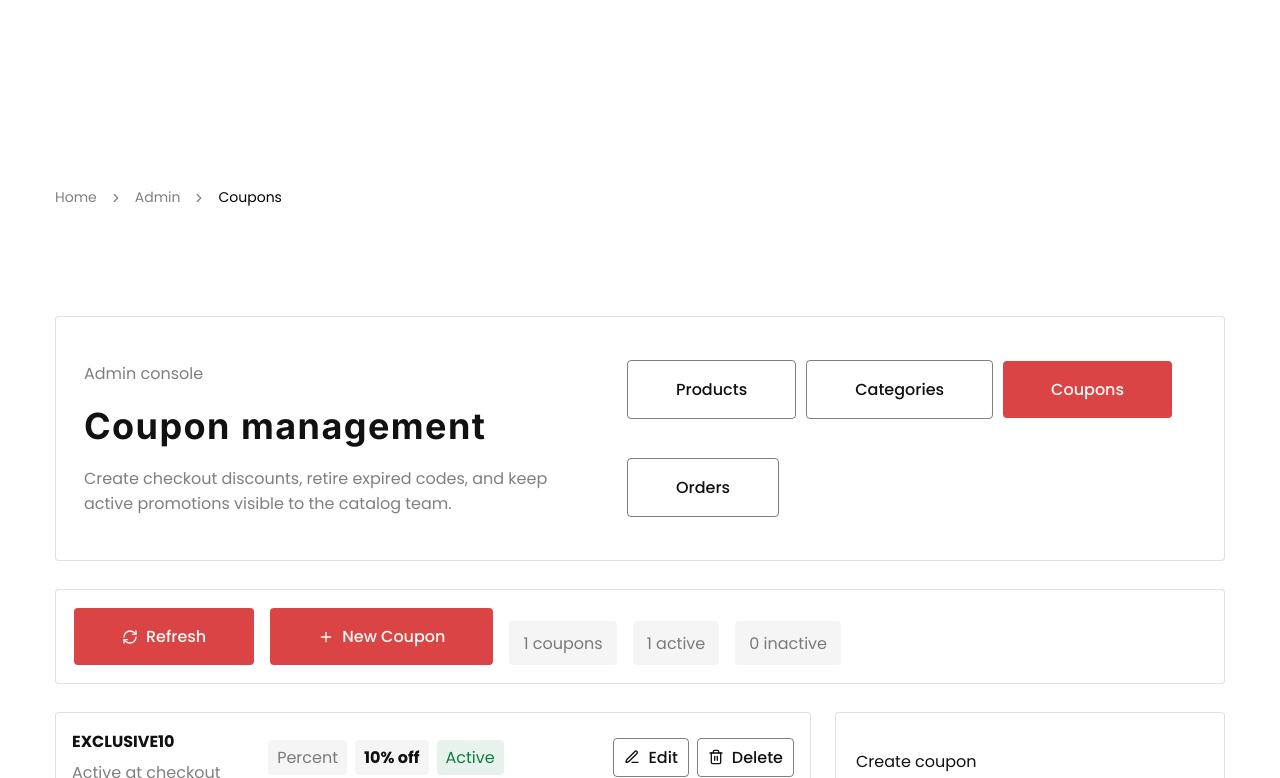
Test: AdminCouponsPage › keeps a coupon visible when delete fails
Expected: the text "EXCLUSIVE10" is shown, [72,730,174,753]
Click the button "Delete": (745, 757) [697,738,794,776]
(page scrolled)
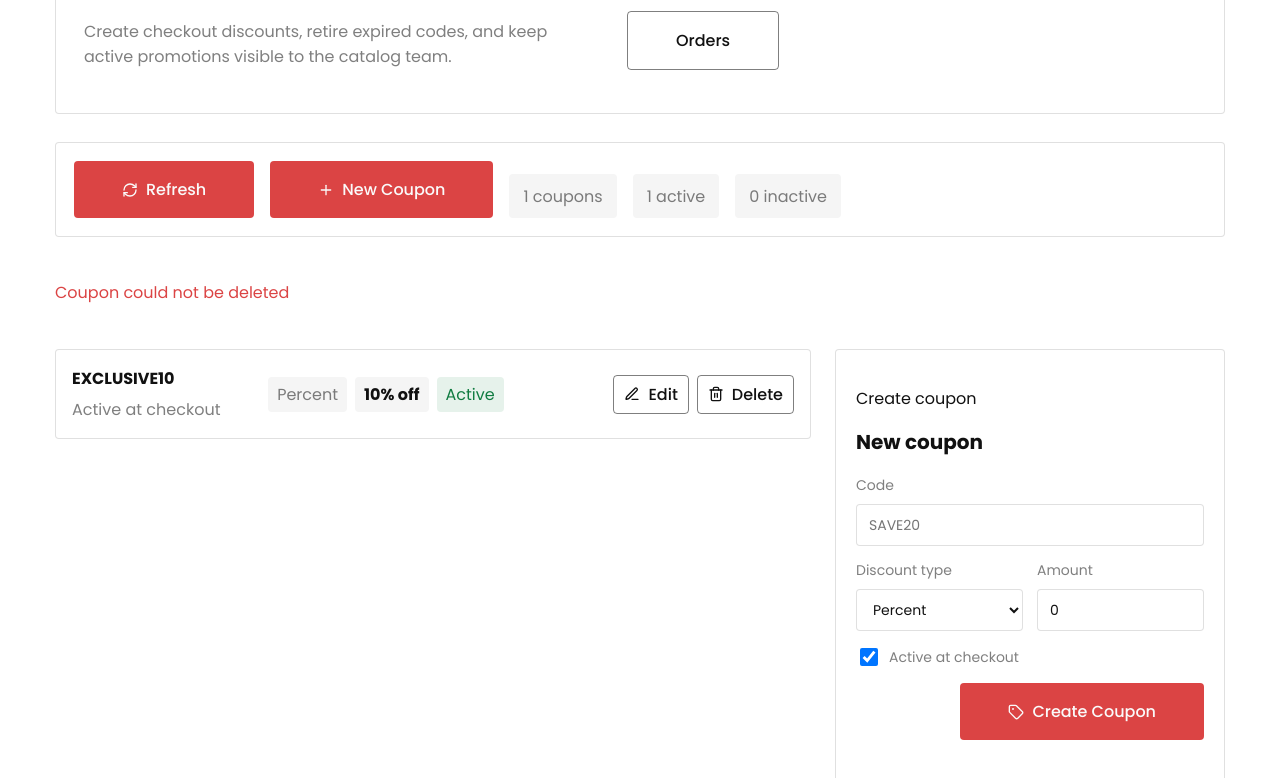
Expected: the text "EXCLUSIVE10" is shown, [72,367,174,390]
Now the text "Coupon could not be deleted" is shown, box [55,281,289,304]
